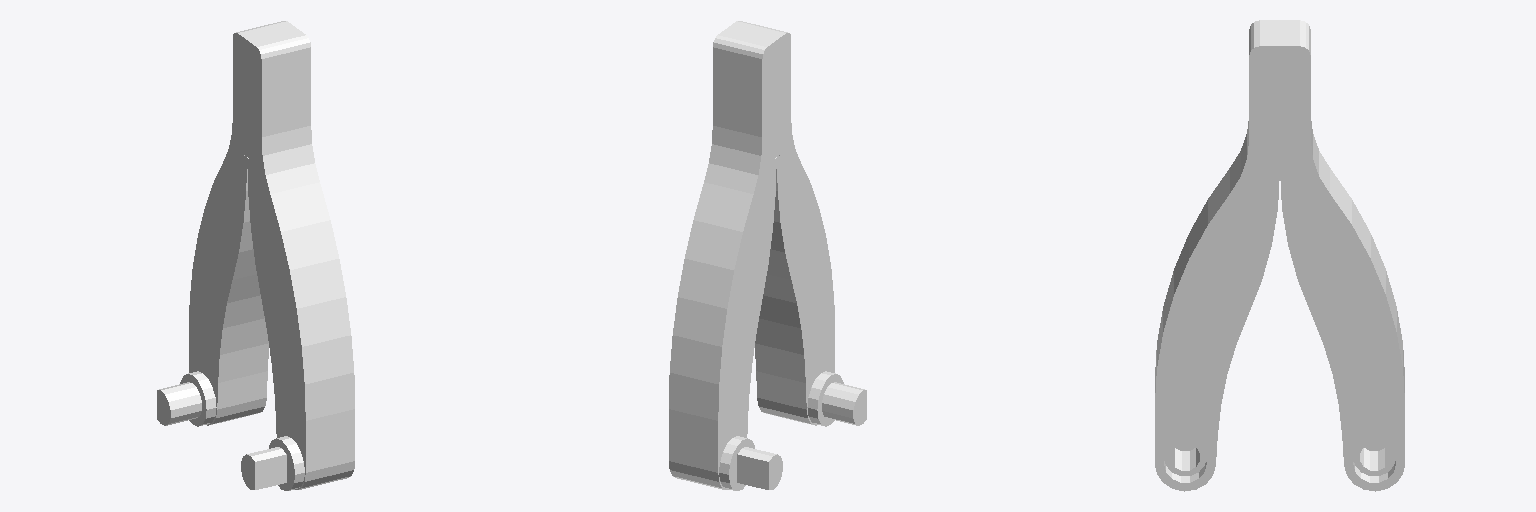
URDF robot description (FlexGripper):
<?xml version="1.0" encoding="utf-8"?>
<!-- This URDF was automatically created by SolidWorks to URDF Exporter! Originally created by Stephen Brawner (brawner@gmail.com) 
     Commit Version: 1.6.0-4-g7f85cfe  Build Version: 1.6.7995.38578
     For more information, please see http://wiki.ros.org/sw_urdf_exporter -->
<robot
  name="FlexGripper">
  <link
    name="FlexGripper">
    <inertial>
      <origin
        xyz="0.00119620252724253 1.17367165524628E-05 -0.0449970827543455"
        rpy="0 0 0" />
      <mass
        value="0.0267188131008028" />
      <inertia
        ixx="7.41943037248582E-06"
        ixy="2.27416632284192E-08"
        ixz="-2.95964513363966E-07"
        iyy="3.49832340827444E-06"
        iyz="-2.77974615978198E-08"
        izz="5.32499402132981E-06" />
    </inertial>
    <visual>
      <origin
        xyz="0 0 0"
        rpy="0 0 0" />
      <geometry>
        <mesh
          filename="package://FlexGripper/meshes/FlexGripper.STL" />
      </geometry>
      <material
        name="">
        <color
          rgba="1 1 1 1" />
      </material>
    </visual>
    <collision>
      <origin
        xyz="0 0 0"
        rpy="0 0 0" />
      <geometry>
        <mesh
          filename="package://FlexGripper/meshes/FlexGripper.STL" />
      </geometry>
    </collision>
  </link>
  <link
    name="finger_left">
    <inertial>
      <origin
        xyz="-0.00047322 -0.0032094 0.017855"
        rpy="0 0 0" />
      <mass
        value="0.0016299" />
      <inertia
        ixx="2.3741E-07"
        ixy="1.0378E-09"
        ixz="-6.2663E-09"
        iyy="2.2693E-07"
        iyz="4.8249E-08"
        izz="2.331E-08" />
    </inertial>
    <visual>
      <origin
        xyz="0 0 0"
        rpy="0 0 0" />
      <geometry>
        <mesh
          filename="package://FlexGripper/meshes/finger_left.STL" />
      </geometry>
      <material
        name="">
        <color
          rgba="1 1 1 1" />
      </material>
    </visual>
    <collision>
      <origin
        xyz="0 0 0"
        rpy="0 0 0" />
      <geometry>
        <mesh
          filename="package://FlexGripper/meshes/finger_left.STL" />
      </geometry>
    </collision>
  </link>
  <joint
    name="finger_left_joint"
    type="revolute">
    <origin
      xyz="0.00025007 0.00925 -0.03825"
      rpy="0 0 0" />
    <parent
      link="FlexGripper" />
    <child
      link="finger_left" />
    <axis
      xyz="-1 0 0" />
    <limit
      lower="-1.57"
      upper="1.57"
      effort="20"
      velocity="3" />
  </joint>
  <link
    name="finger_right">
    <inertial>
      <origin
        xyz="-0.00047322 0.0032094 0.017855"
        rpy="0 0 0" />
      <mass
        value="0.0016299" />
      <inertia
        ixx="2.3741E-07"
        ixy="-1.0378E-09"
        ixz="-6.2663E-09"
        iyy="2.2693E-07"
        iyz="-4.8249E-08"
        izz="2.331E-08" />
    </inertial>
    <visual>
      <origin
        xyz="0 0 0"
        rpy="0 0 0" />
      <geometry>
        <mesh
          filename="package://FlexGripper/meshes/finger_right.STL" />
      </geometry>
      <material
        name="">
        <color
          rgba="1 1 1 1" />
      </material>
    </visual>
    <collision>
      <origin
        xyz="0 0 0"
        rpy="0 0 0" />
      <geometry>
        <mesh
          filename="package://FlexGripper/meshes/finger_right.STL" />
      </geometry>
    </collision>
  </link>
  <joint
    name="figer_right_joint"
    type="revolute">
    <origin
      xyz="0.00025007 -0.00925 -0.03825"
      rpy="0 0 0" />
    <parent
      link="FlexGripper" />
    <child
      link="finger_right" />
    <axis
      xyz="-1 0 0" />
    <limit
      lower="-1.57"
      upper="1.57"
      effort="20"
      velocity="3" />
  </joint>
</robot>

--- What the picture shows (computed from the rendered views, not written in the file) ---
The picture shows the robot from 3 angles, left to right: view 1: azimuth 30°, elevation 25°; view 2: azimuth 150°, elevation 25°; view 3: azimuth 270°, elevation 25°; orthographic projection.
Robot: FlexGripper — 3 links, 2 joints (2 revolute); root link FlexGripper; default pose: every joint at zero.
Visible links, largest first — view 1: finger_right, finger_left; view 2: finger_left, finger_right; view 3: finger_left, finger_right.
Boxes of the visible links, x1,y1,x2,y2 form: finger_right: [241, 28, 354, 490]; finger_left: [157, 21, 295, 426]; finger_left: [669, 28, 782, 490]; finger_right: [728, 21, 866, 426]; finger_left: [1280, 20, 1404, 491]; finger_right: [1155, 20, 1279, 491].
Size in the robot's own frame: 0.011 by 0.0245 by 0.048 metres.
Meshes: 3 distinct files referenced, 2 mesh visuals loaded (2 binary STL); not drawn: 1 (reference not matched to a file when rendering).
